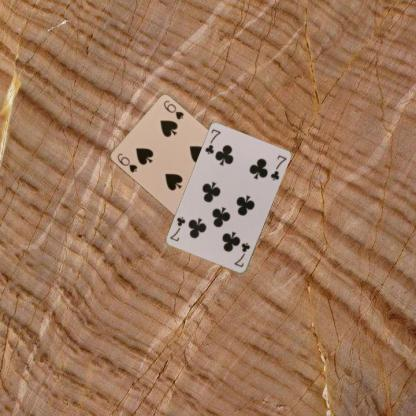6s: (114, 151, 139, 174)
7c: (232, 240, 251, 269), (203, 127, 222, 156)
